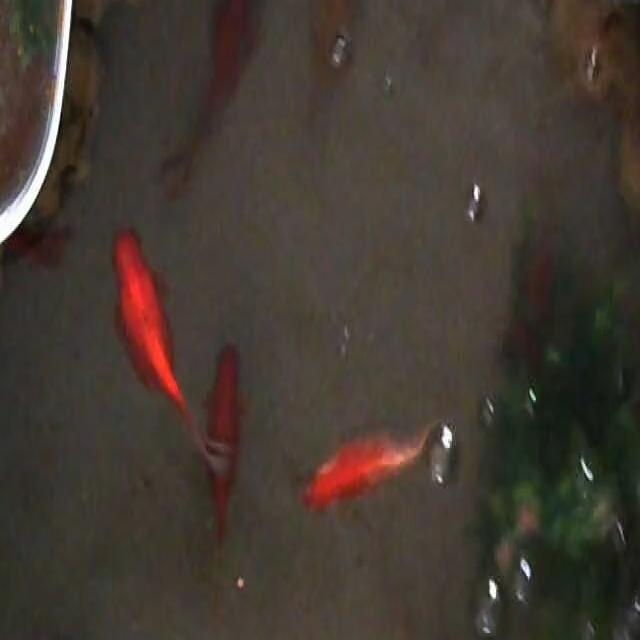fish: (101, 231, 214, 491), (158, 0, 260, 197), (300, 417, 454, 519), (202, 339, 242, 552), (504, 227, 560, 357), (310, 0, 357, 114), (4, 219, 74, 271)
